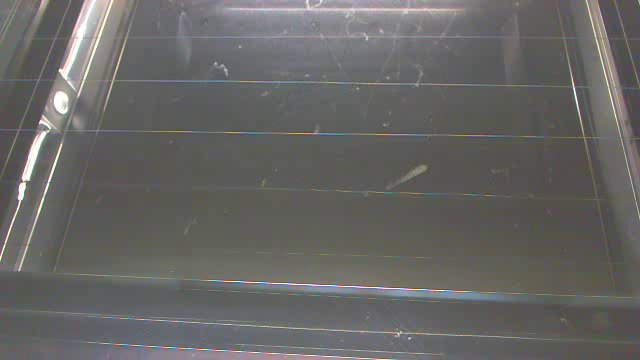alpha: (382, 161, 430, 192)
